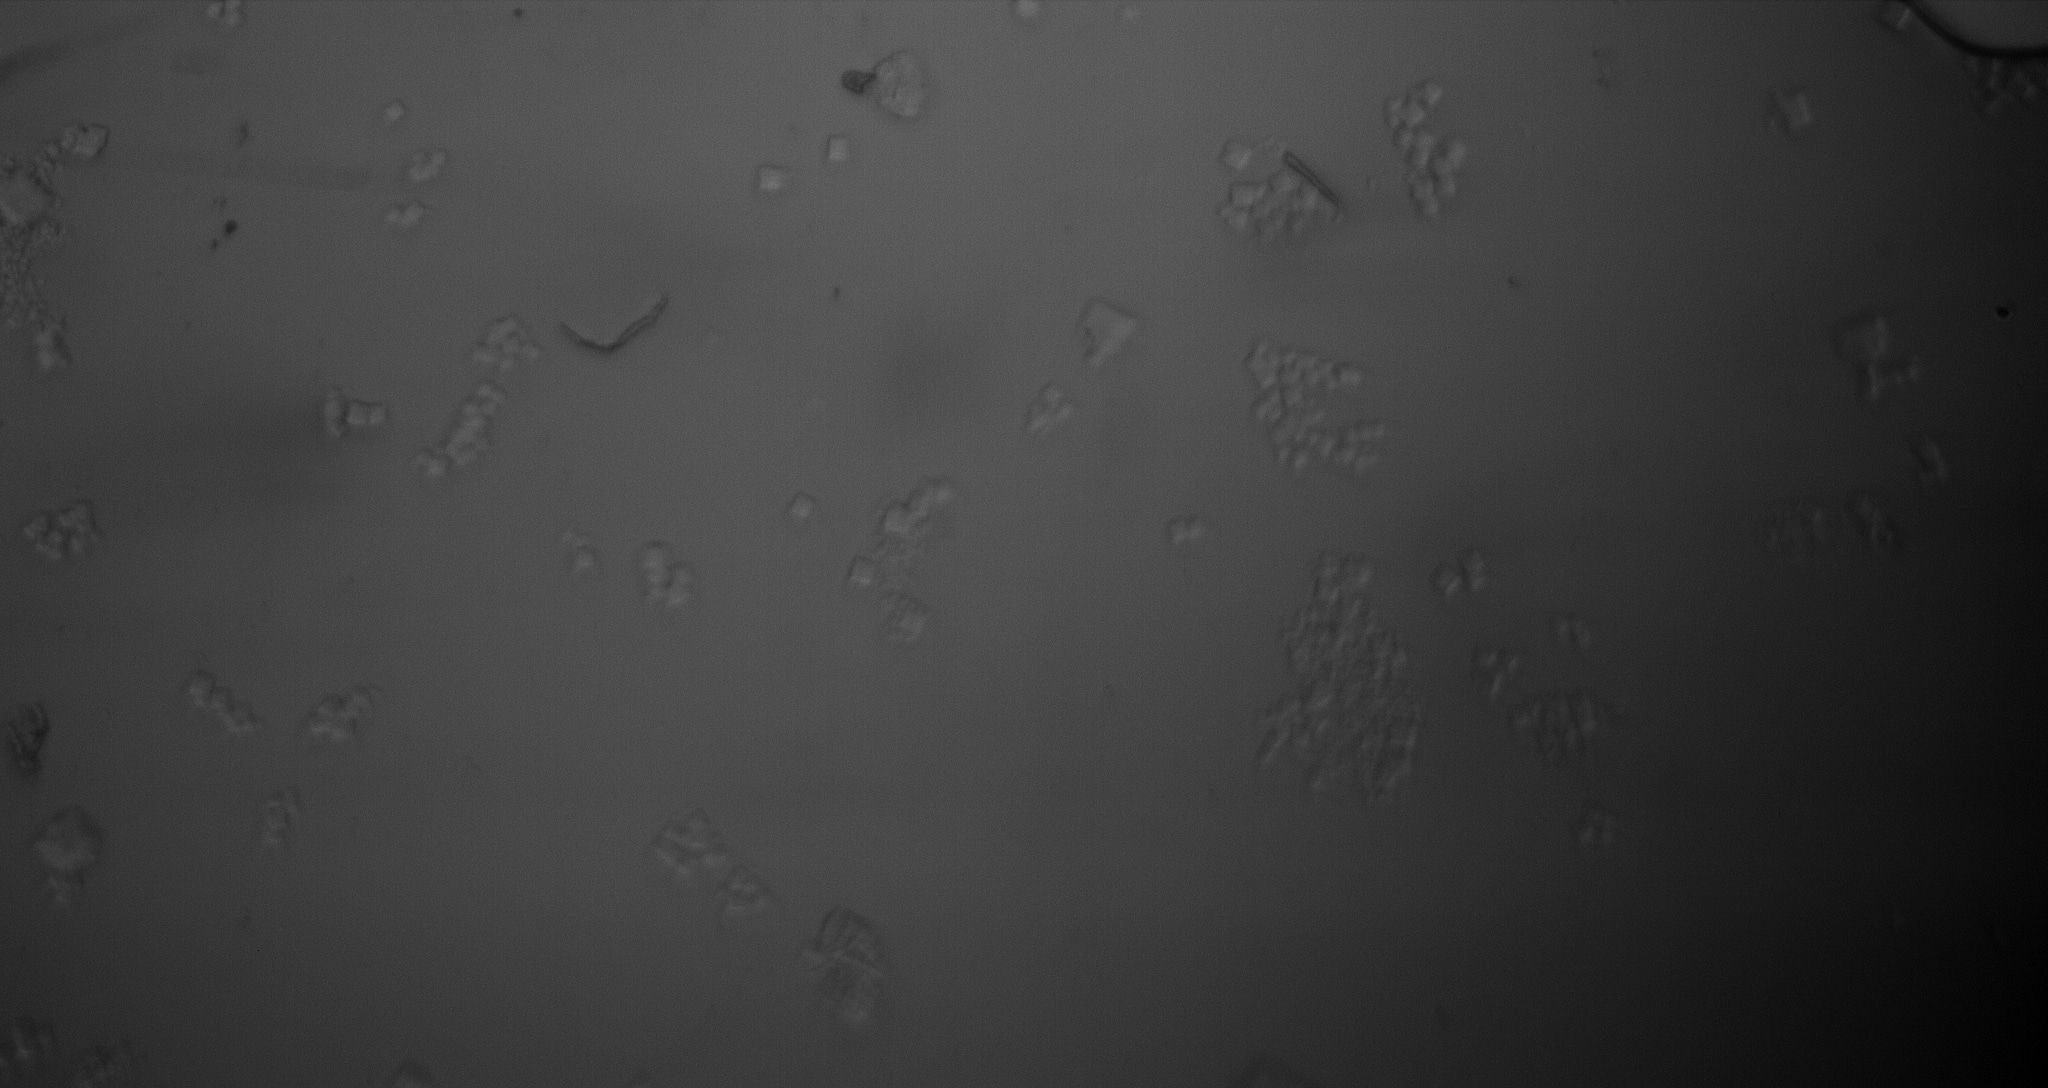square: (1759, 84, 1825, 144), (756, 161, 796, 205), (74, 117, 112, 163), (1429, 562, 1462, 598), (847, 551, 878, 588), (824, 131, 856, 164), (790, 490, 819, 523)
